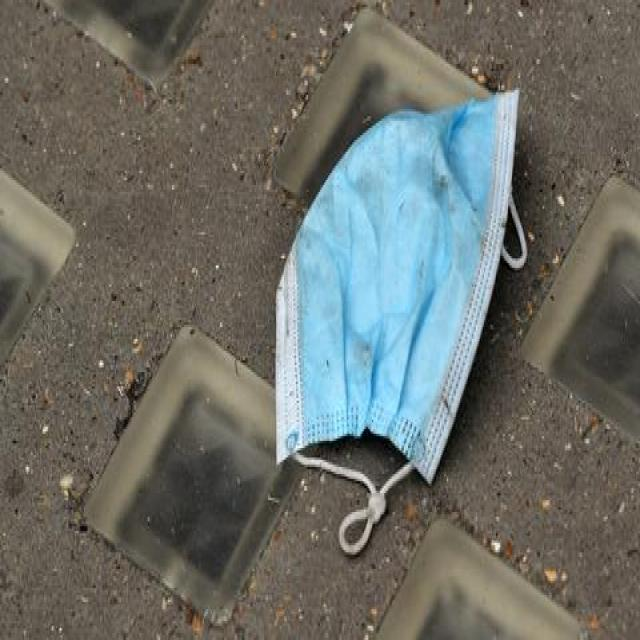face mask: (274, 82, 524, 552)
